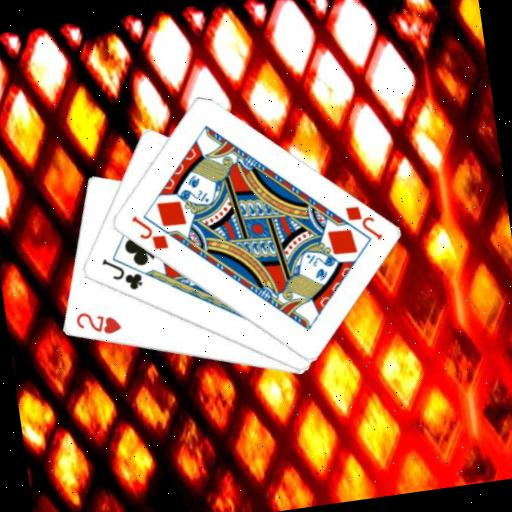2H: (71, 304, 124, 341)
JC: (97, 251, 145, 297)
JD: (127, 208, 171, 255), (341, 200, 385, 247)
